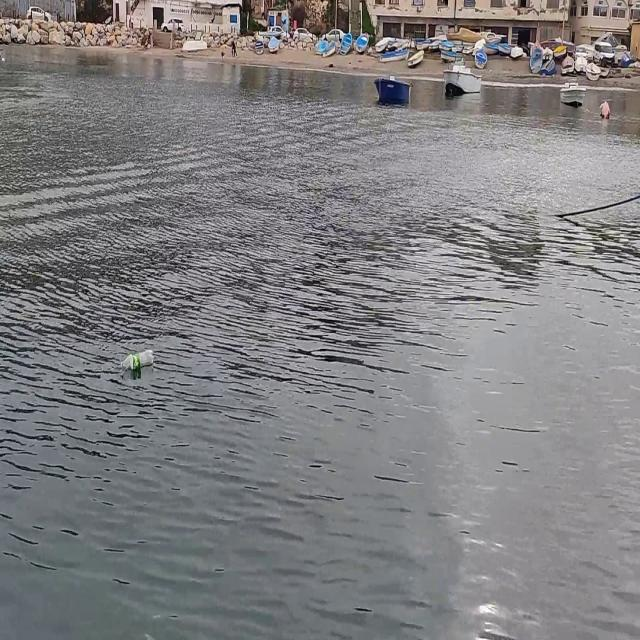Plastic bottle: (120, 345, 156, 379)
